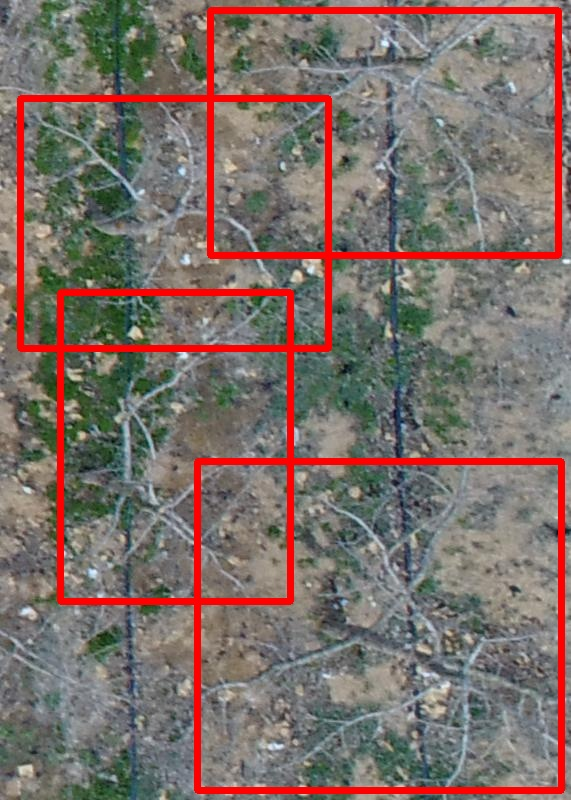apple: (197, 461, 561, 790), (210, 10, 558, 255), (20, 98, 328, 348), (60, 292, 290, 601)
